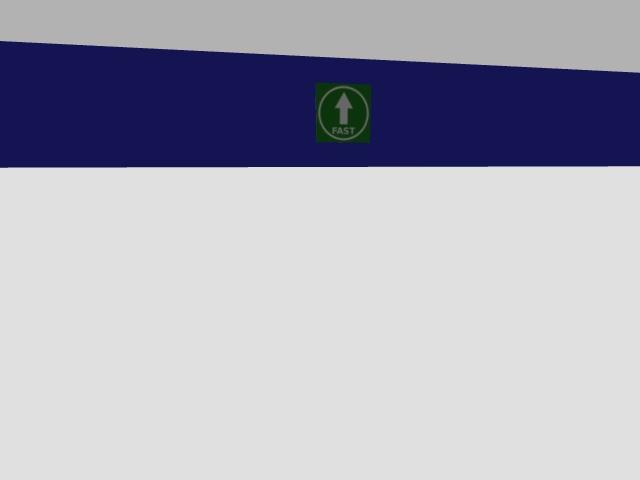fast: (316, 83, 370, 142)
